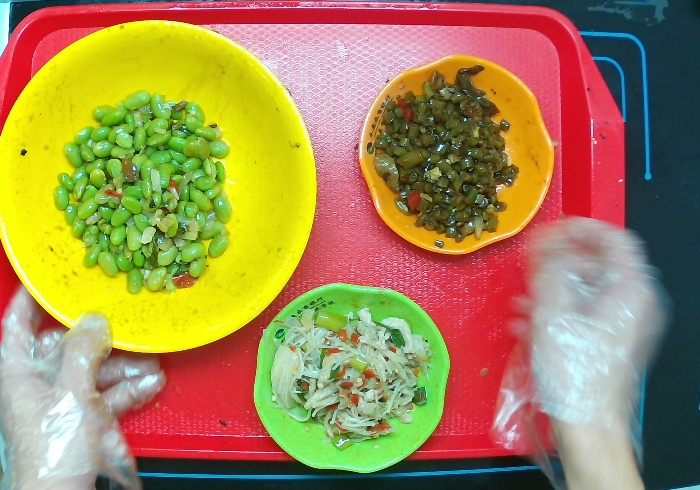YKMZ-Huang_Se_Tang_Wan: (1, 17, 318, 362)
YKMZ-Ju_Se_Ao_Bian_Wan: (348, 46, 560, 266)
YKMZ-Lv_Se_Ao_Bian_Wan: (247, 277, 457, 480)
